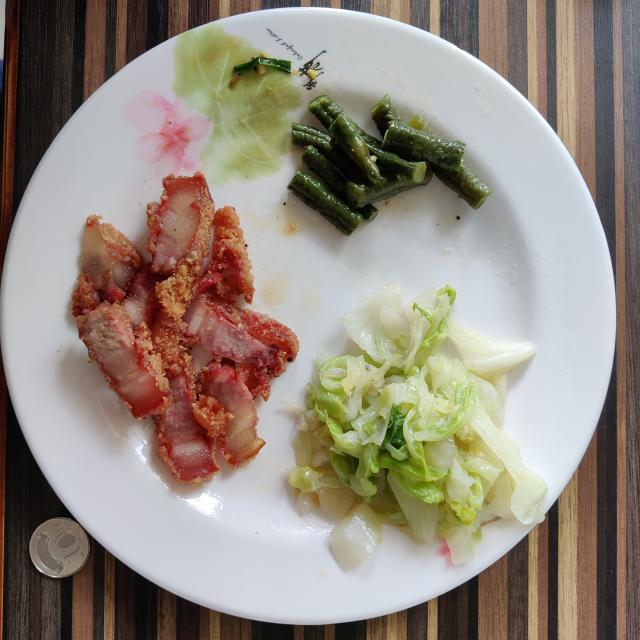cabbage: (285, 284, 548, 569)
coin: (29, 518, 90, 578)
red grilled pork: (72, 172, 299, 484)
